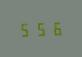five: (18, 20, 32, 37), (34, 20, 48, 36)
six: (49, 19, 63, 36)
